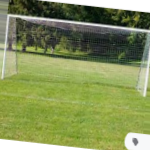goals: (1, 11, 150, 98)
